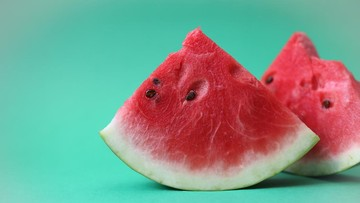Semangka: (101, 41, 299, 191), (258, 46, 360, 173)
